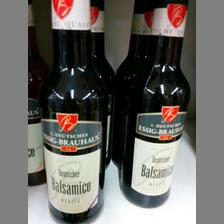Essig: (117, 0, 193, 208), (41, 0, 106, 222)
